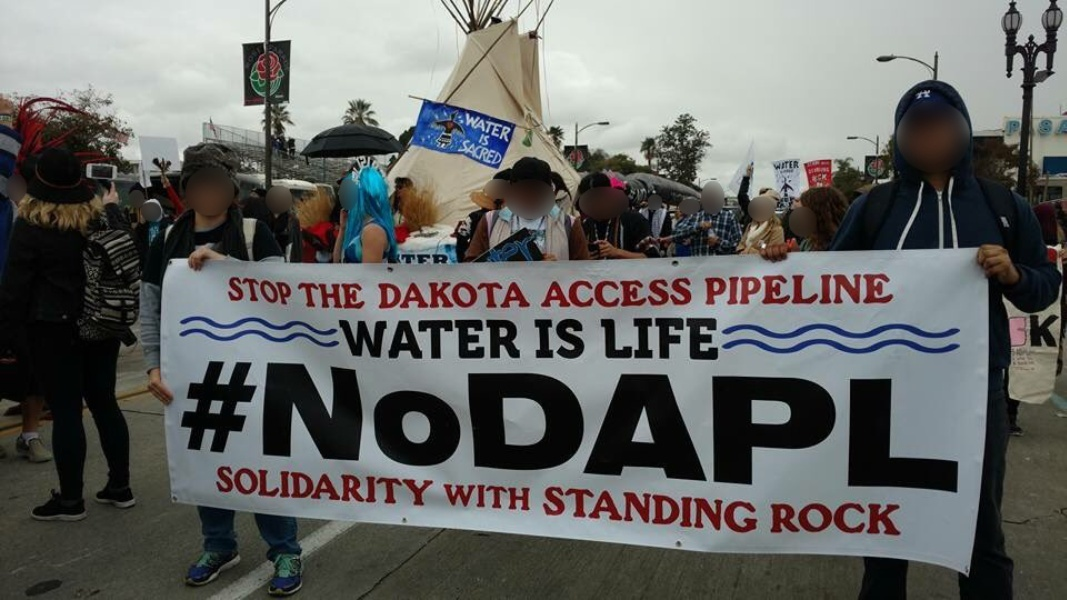text: (945, 356, 961, 497), (193, 356, 208, 497), (209, 356, 224, 497), (225, 356, 240, 497), (241, 356, 256, 497), (257, 356, 272, 497), (273, 356, 288, 497), (289, 356, 304, 497), (305, 356, 320, 497), (321, 356, 336, 497), (337, 356, 352, 497), (353, 356, 368, 497), (369, 356, 384, 497), (385, 356, 400, 497), (401, 356, 416, 497), (417, 356, 432, 497), (433, 356, 448, 497), (449, 356, 464, 497), (465, 356, 480, 497), (481, 356, 496, 497), (497, 356, 512, 497), (513, 356, 528, 497), (529, 356, 544, 497), (545, 356, 560, 497), (561, 356, 576, 497), (577, 356, 592, 497), (593, 356, 608, 497), (609, 356, 624, 497), (625, 356, 640, 497), (641, 356, 656, 497), (657, 356, 672, 497), (673, 356, 688, 497), (689, 356, 704, 497), (705, 356, 720, 497), (721, 356, 736, 497), (737, 356, 752, 497), (753, 356, 768, 497), (769, 356, 784, 497), (785, 356, 800, 497), (801, 356, 816, 497), (817, 356, 832, 497), (833, 356, 848, 497), (849, 356, 864, 497), (865, 356, 880, 497), (881, 356, 896, 497), (897, 356, 912, 497), (913, 356, 928, 497), (929, 356, 944, 497), (545, 485, 560, 535), (561, 485, 576, 535), (577, 485, 592, 535), (593, 485, 608, 535), (609, 485, 624, 535), (625, 485, 640, 535), (641, 485, 656, 535), (657, 485, 672, 535), (673, 485, 688, 535), (689, 485, 704, 535), (705, 485, 720, 535), (721, 485, 736, 535), (737, 485, 752, 535), (609, 317, 624, 362), (625, 317, 640, 362), (641, 317, 656, 362), (657, 317, 672, 362), (673, 317, 688, 362), (689, 317, 704, 362), (705, 317, 720, 362), (225, 464, 240, 508), (241, 464, 256, 508), (257, 464, 272, 508), (273, 464, 288, 508), (289, 464, 304, 508), (305, 464, 320, 508), (321, 464, 336, 508), (337, 464, 352, 508), (353, 464, 368, 508), (369, 464, 384, 508), (385, 464, 400, 508), (401, 464, 416, 508), (417, 464, 432, 508), (337, 318, 352, 361), (353, 318, 368, 361), (369, 318, 384, 361), (385, 318, 400, 361), (401, 318, 416, 361), (417, 318, 432, 361), (433, 318, 448, 361), (449, 318, 464, 361), (465, 318, 480, 361), (481, 318, 496, 361), (497, 318, 512, 361), (545, 318, 560, 361), (561, 318, 576, 361), (785, 502, 800, 537), (801, 502, 816, 537), (817, 502, 832, 537), (833, 502, 848, 537), (849, 502, 864, 537), (865, 502, 880, 537), (881, 502, 896, 537), (705, 271, 720, 306), (721, 271, 736, 306), (737, 271, 752, 306), (753, 271, 768, 306), (769, 271, 784, 306), (785, 271, 800, 306), (801, 271, 816, 306), (817, 271, 832, 306), (833, 271, 848, 306), (849, 271, 864, 306), (865, 271, 880, 306), (497, 112, 513, 144), (1041, 315, 1056, 348), (770, 502, 784, 537), (881, 271, 895, 306), (545, 276, 560, 308), (561, 276, 576, 308), (577, 276, 592, 308), (593, 276, 608, 308), (609, 276, 624, 308), (625, 276, 640, 308), (641, 276, 656, 308), (657, 276, 672, 308), (673, 276, 688, 308), (481, 112, 496, 144), (241, 276, 256, 308), (257, 276, 272, 308), (273, 276, 288, 308), (449, 482, 464, 513), (465, 482, 480, 513), (481, 482, 496, 513), (497, 482, 512, 513), (513, 482, 528, 513), (465, 137, 480, 168), (481, 137, 496, 168), (385, 281, 400, 311), (401, 281, 416, 311), (417, 281, 432, 311), (433, 281, 448, 311), (449, 281, 464, 311), (465, 281, 480, 311), (481, 281, 496, 311), (497, 281, 512, 311), (513, 281, 528, 311), (466, 112, 480, 144), (305, 282, 320, 311), (321, 282, 336, 311), (337, 282, 352, 311), (513, 318, 523, 361), (534, 318, 544, 361), (227, 276, 240, 308), (215, 464, 224, 508), (577, 318, 586, 361), (353, 282, 366, 311), (600, 317, 608, 362), (753, 485, 760, 535), (1030, 315, 1040, 348), (1041, 117, 1056, 135), (497, 137, 505, 168), (376, 281, 384, 311), (1009, 119, 1021, 137), (897, 502, 903, 537), (785, 159, 801, 172), (297, 282, 304, 311), (482, 133, 496, 147), (289, 276, 295, 308), (401, 253, 416, 265), (417, 253, 432, 265), (433, 253, 448, 265), (1057, 117, 1066, 135), (689, 276, 694, 308), (443, 482, 448, 513), (773, 159, 784, 172), (433, 464, 436, 508), (529, 281, 533, 311), (817, 166, 830, 175), (542, 485, 544, 535), (1057, 315, 1060, 348), (529, 482, 532, 513), (807, 166, 816, 175), (1037, 117, 1040, 135), (1006, 119, 1008, 137), (703, 271, 704, 306), (463, 137, 464, 168), (449, 253, 450, 265)
